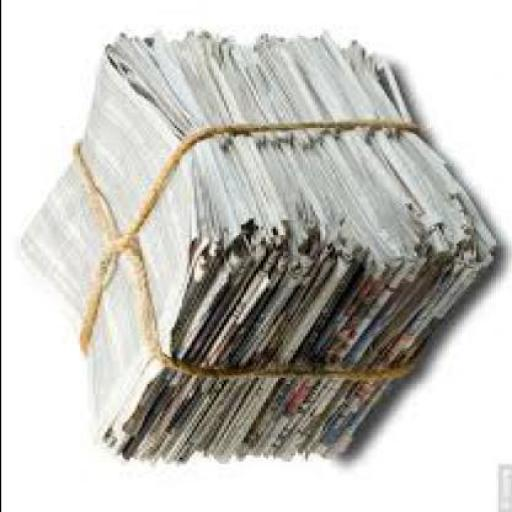paper: (17, 31, 495, 466), (285, 32, 457, 462), (198, 33, 363, 464), (120, 33, 270, 462), (390, 74, 492, 381)
